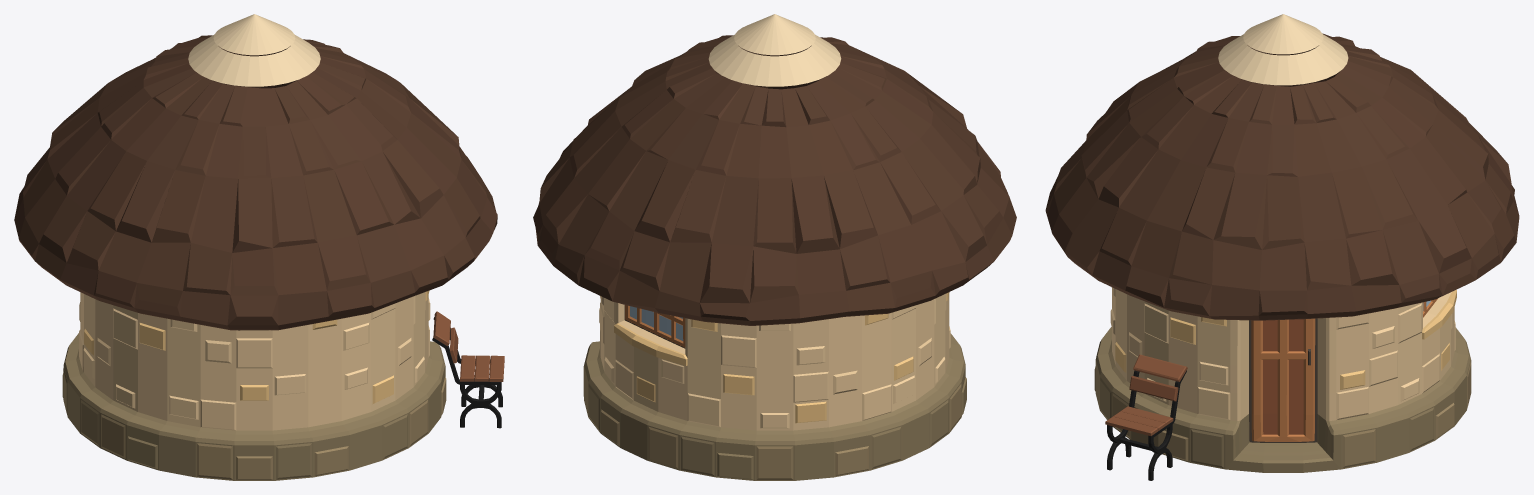
Rendered from hut (1).fbx.
The picture shows the model from 3 angles, left to right: view 1: azimuth 30°, elevation 25°; view 2: azimuth 150°, elevation 25°; view 3: azimuth 270°, elevation 25°; orthographic projection.
Visible parts, largest first — view 1: hut.002, chair.001; view 2: hut.002; view 3: hut.002, chair.001.
Part boxes in pixels (x1=…): hut.002: x1=14, y1=14, x2=497, y2=480; chair.001: x1=432, y1=311, x2=504, y2=428; hut.002: x1=533, y1=14, x2=1016, y2=480; hut.002: x1=1045, y1=14, x2=1519, y2=472; chair.001: x1=1105, y1=354, x2=1187, y2=480.
Size of the model in its own units: 834 by 739 by 835.
